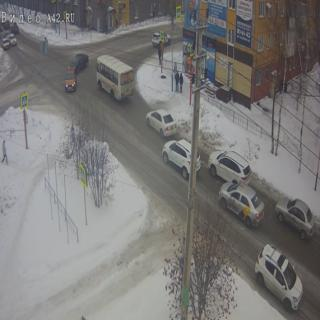large-vehicle: (95, 56, 135, 104)
small-vehicle: (255, 248, 302, 306), (219, 182, 264, 225), (275, 196, 315, 240), (209, 150, 251, 189), (162, 138, 201, 179), (145, 109, 177, 138), (70, 54, 90, 72), (154, 31, 172, 48), (66, 69, 76, 92), (6, 34, 16, 46), (1, 37, 10, 48), (2, 19, 10, 30), (11, 24, 19, 34)
